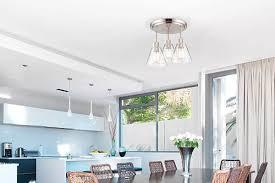chair: (66, 169, 100, 183), (89, 163, 115, 181), (207, 168, 231, 183), (252, 161, 267, 183), (118, 161, 137, 178), (220, 157, 241, 170), (228, 165, 242, 183), (164, 156, 178, 171), (240, 164, 251, 183), (149, 160, 163, 172)
door: (210, 67, 246, 174)
light: (142, 12, 200, 74), (64, 75, 77, 117), (87, 79, 96, 120), (106, 84, 114, 126)
table: (33, 154, 145, 183), (84, 166, 243, 183)
